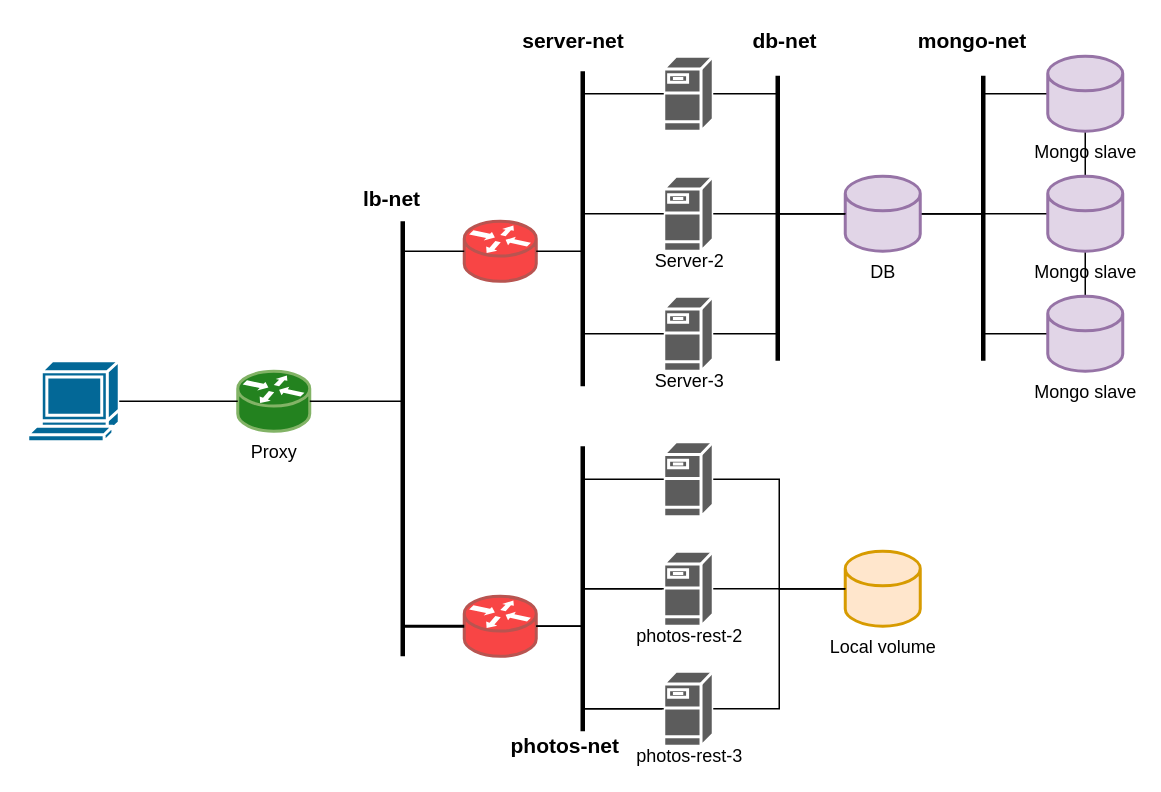
The diagram is 1161 pixels wide and 792 high, and some of its shapes have lost their labels. The box of each missing label's shape, as (x1, y1, x2, y2) in pixels:
Host: (26, 358, 120, 442)
LB -photos: (462, 594, 537, 657)
LB-server: (462, 219, 537, 282)
photos-rest-1: (662, 440, 714, 518)
Server-1: (662, 54, 714, 132)
